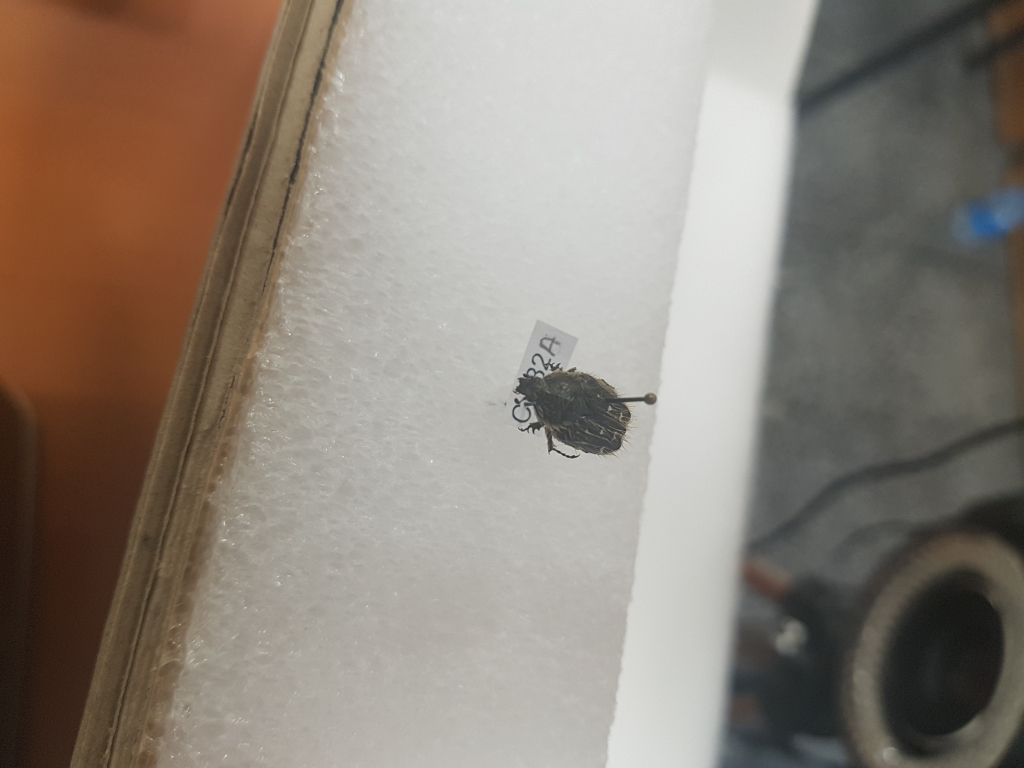Tropinota_hirta: (513, 366, 671, 464)
